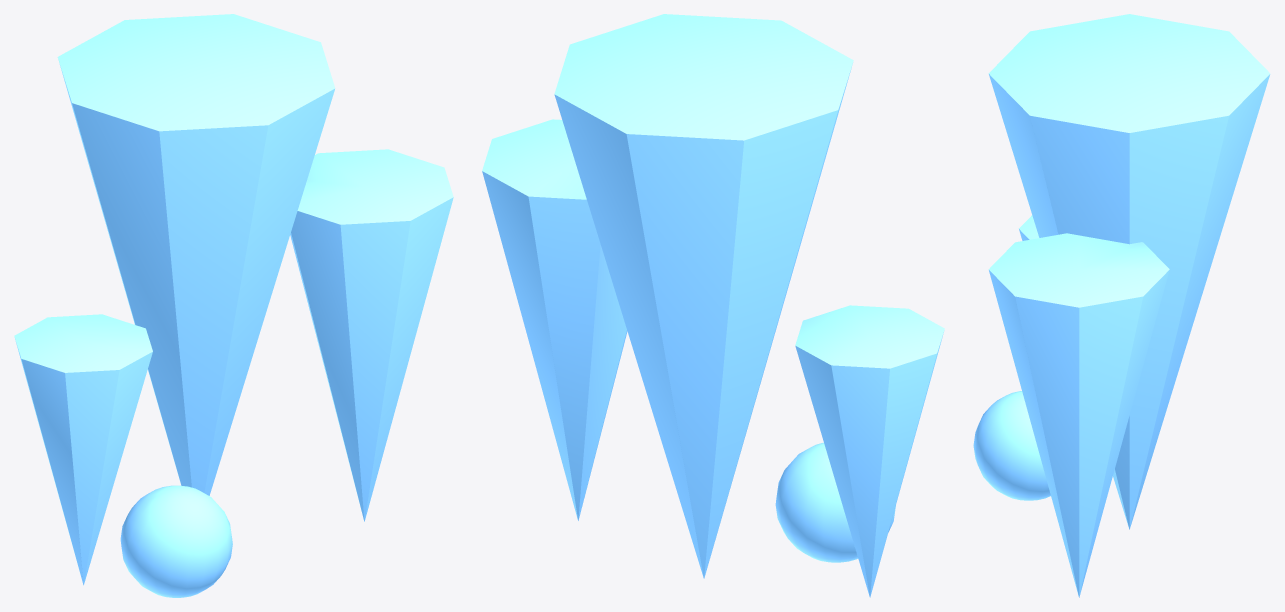
3 renders of one model, left to right at view 1: azimuth 30°, elevation 25°; view 2: azimuth 150°, elevation 25°; view 3: azimuth 270°, elevation 25°, orthographic. The views are drawn at different scales.
Visible parts, largest first — view 1: landmark_f76bce7f; view 2: landmark_f76bce7f; view 3: landmark_f76bce7f.
Part boxes in pixels (box(x1,y1,x2,y2)): landmark_f76bce7f: box(14, 14, 453, 597); landmark_f76bce7f: box(482, 14, 944, 597); landmark_f76bce7f: box(973, 14, 1270, 597).
Bounding box in the file's own units: 4.7 × 5 × 2.95.
